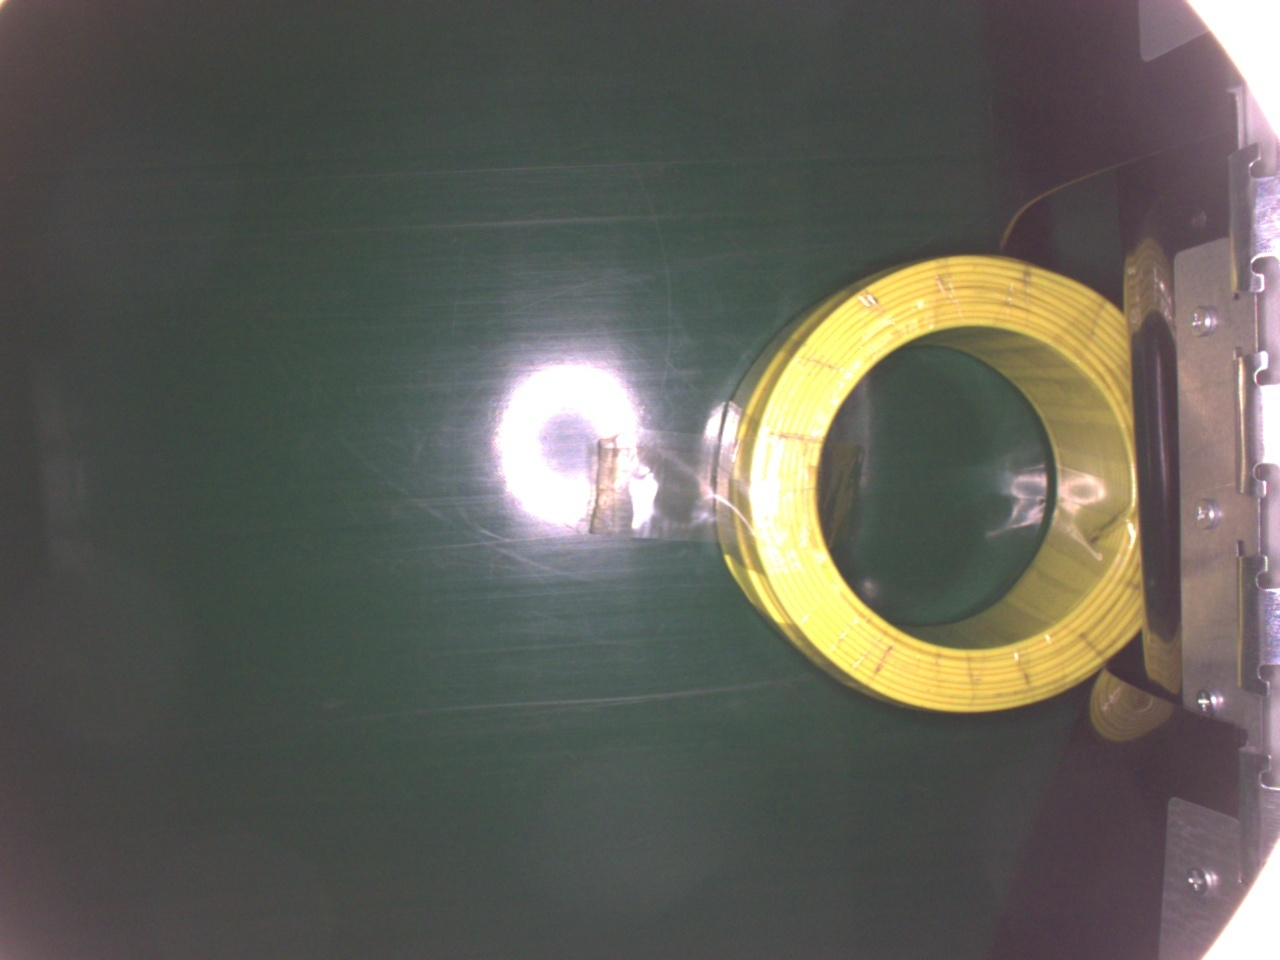yellow: (717, 246, 1141, 718)
